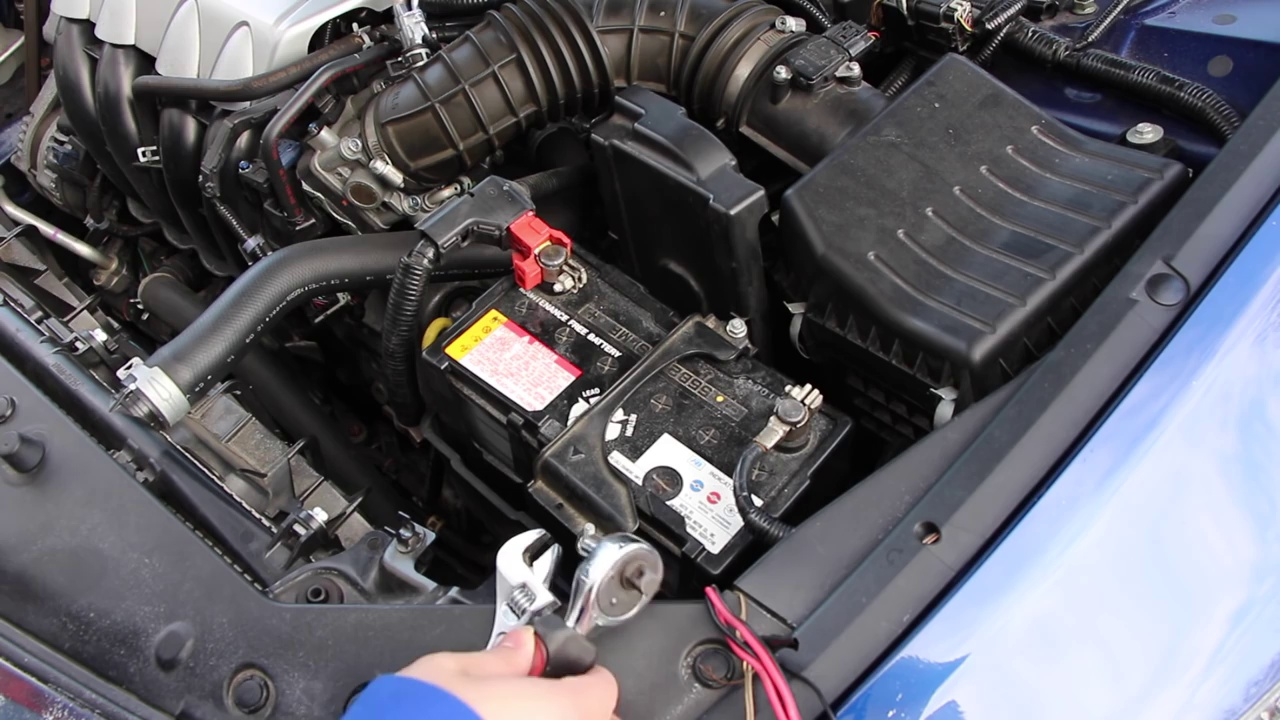battery: (433, 182, 839, 583)
neg_connected: (718, 358, 865, 504)
pos_connected: (446, 188, 595, 307)
